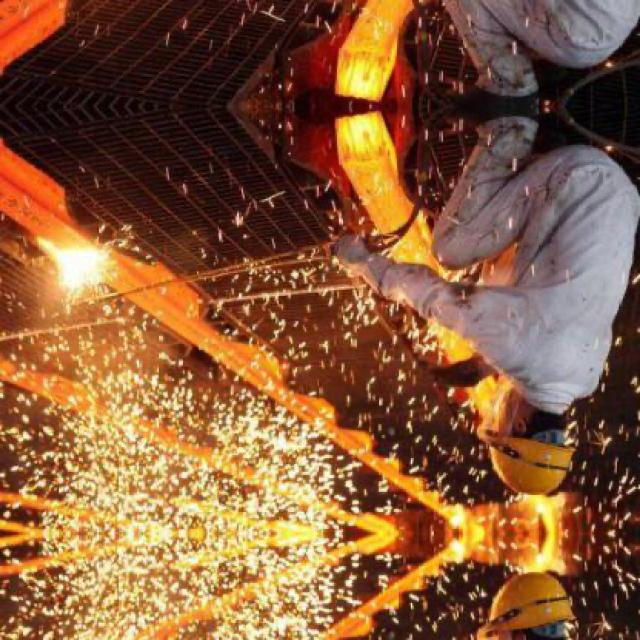con casco: (490, 362, 604, 499)
